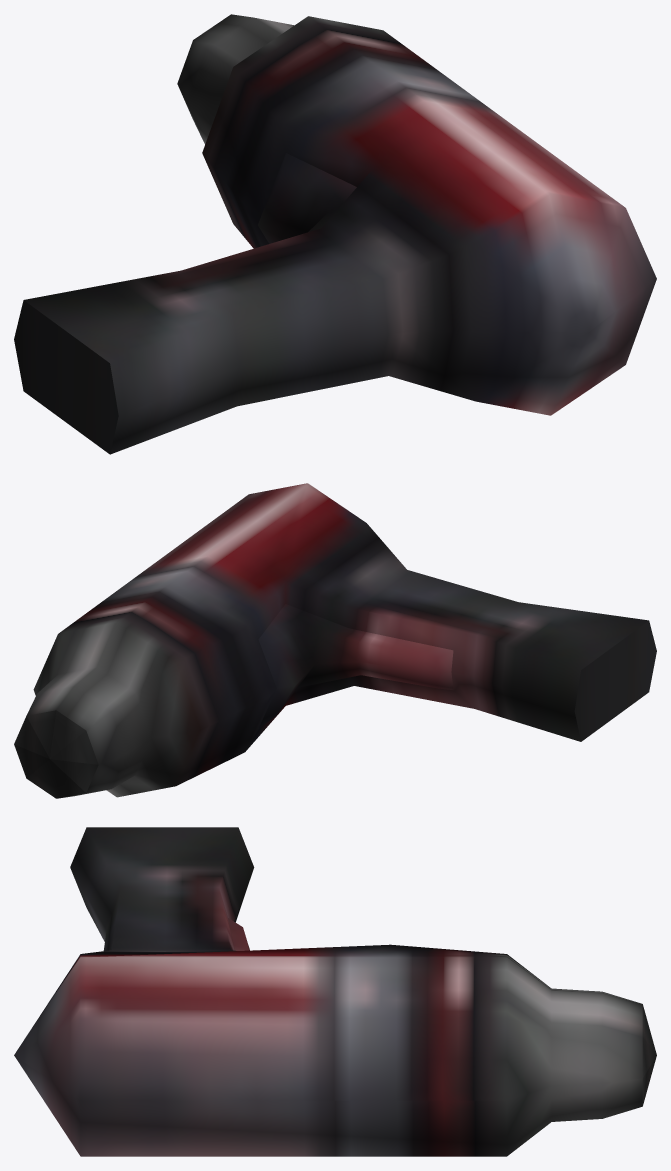
File: drill.FBX
3 views of the same model, one above another, from view 1: azimuth 30°, elevation 25°; view 2: azimuth 150°, elevation 25°; view 3: azimuth 270°, elevation 25° (orthographic). The views are drawn at different scales.
Parts seen in each view (by area): view 1: InventoryItem_Drill; view 2: InventoryItem_Drill; view 3: InventoryItem_Drill.
Boxes of the visible parts, left/top/right/bottom form: InventoryItem_Drill: left=14, top=14, right=656, bottom=454; InventoryItem_Drill: left=14, top=483, right=656, bottom=798; InventoryItem_Drill: left=14, top=827, right=656, bottom=1156.
Size of the model in its own units: 208 by 242 by 80.94.
1 material, 1 textured.
